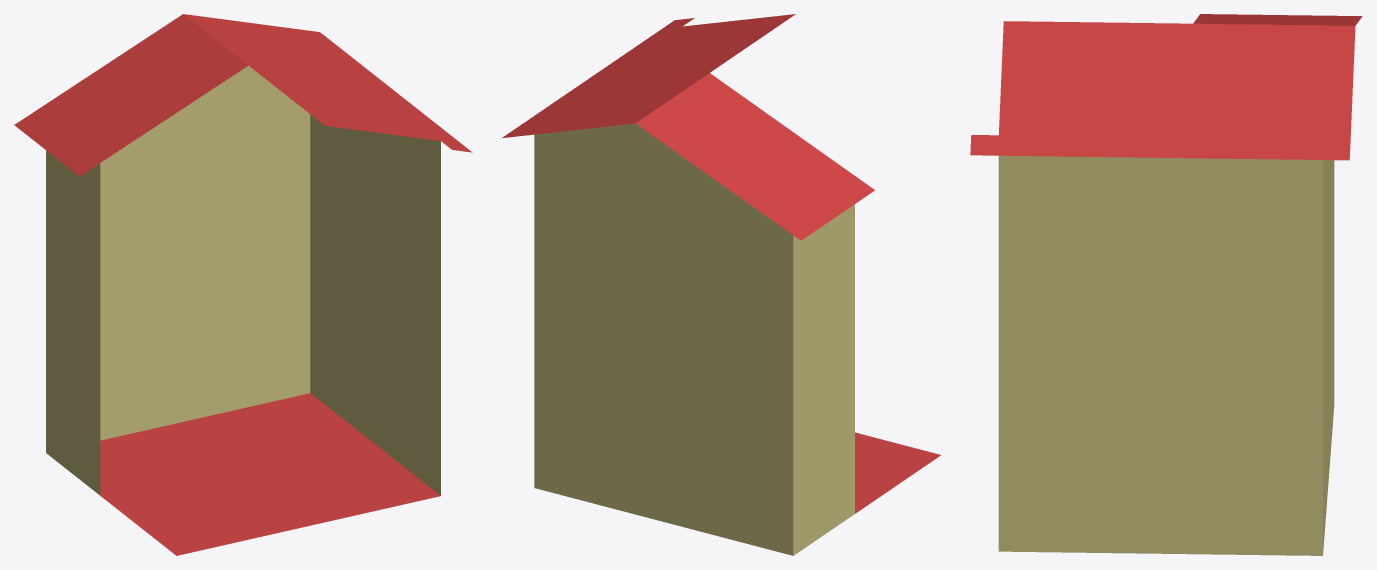
3 views of the same model, side by side, from view 1: azimuth 30°, elevation 25°; view 2: azimuth 150°, elevation 25°; view 3: azimuth 270°, elevation 25° (orthographic). The views are drawn at different scales.
Size of the model in its own units: 7.46 by 7.1 by 9.29.
